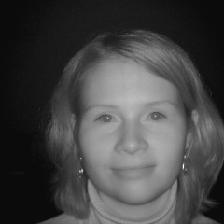happy: (47, 38, 213, 202)
